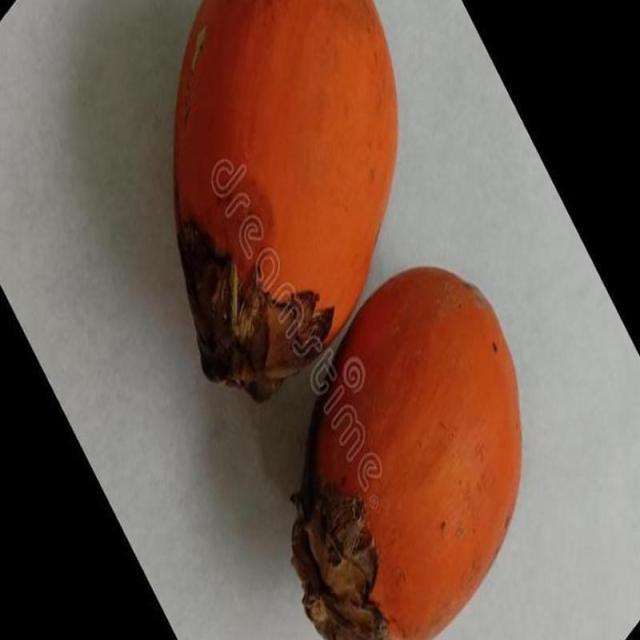good: (174, 0, 399, 405), (291, 267, 525, 639)
